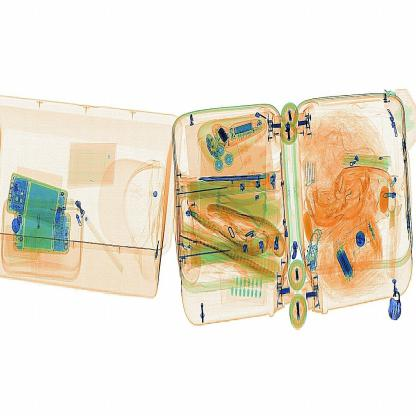wrench: (194, 169, 281, 191)
